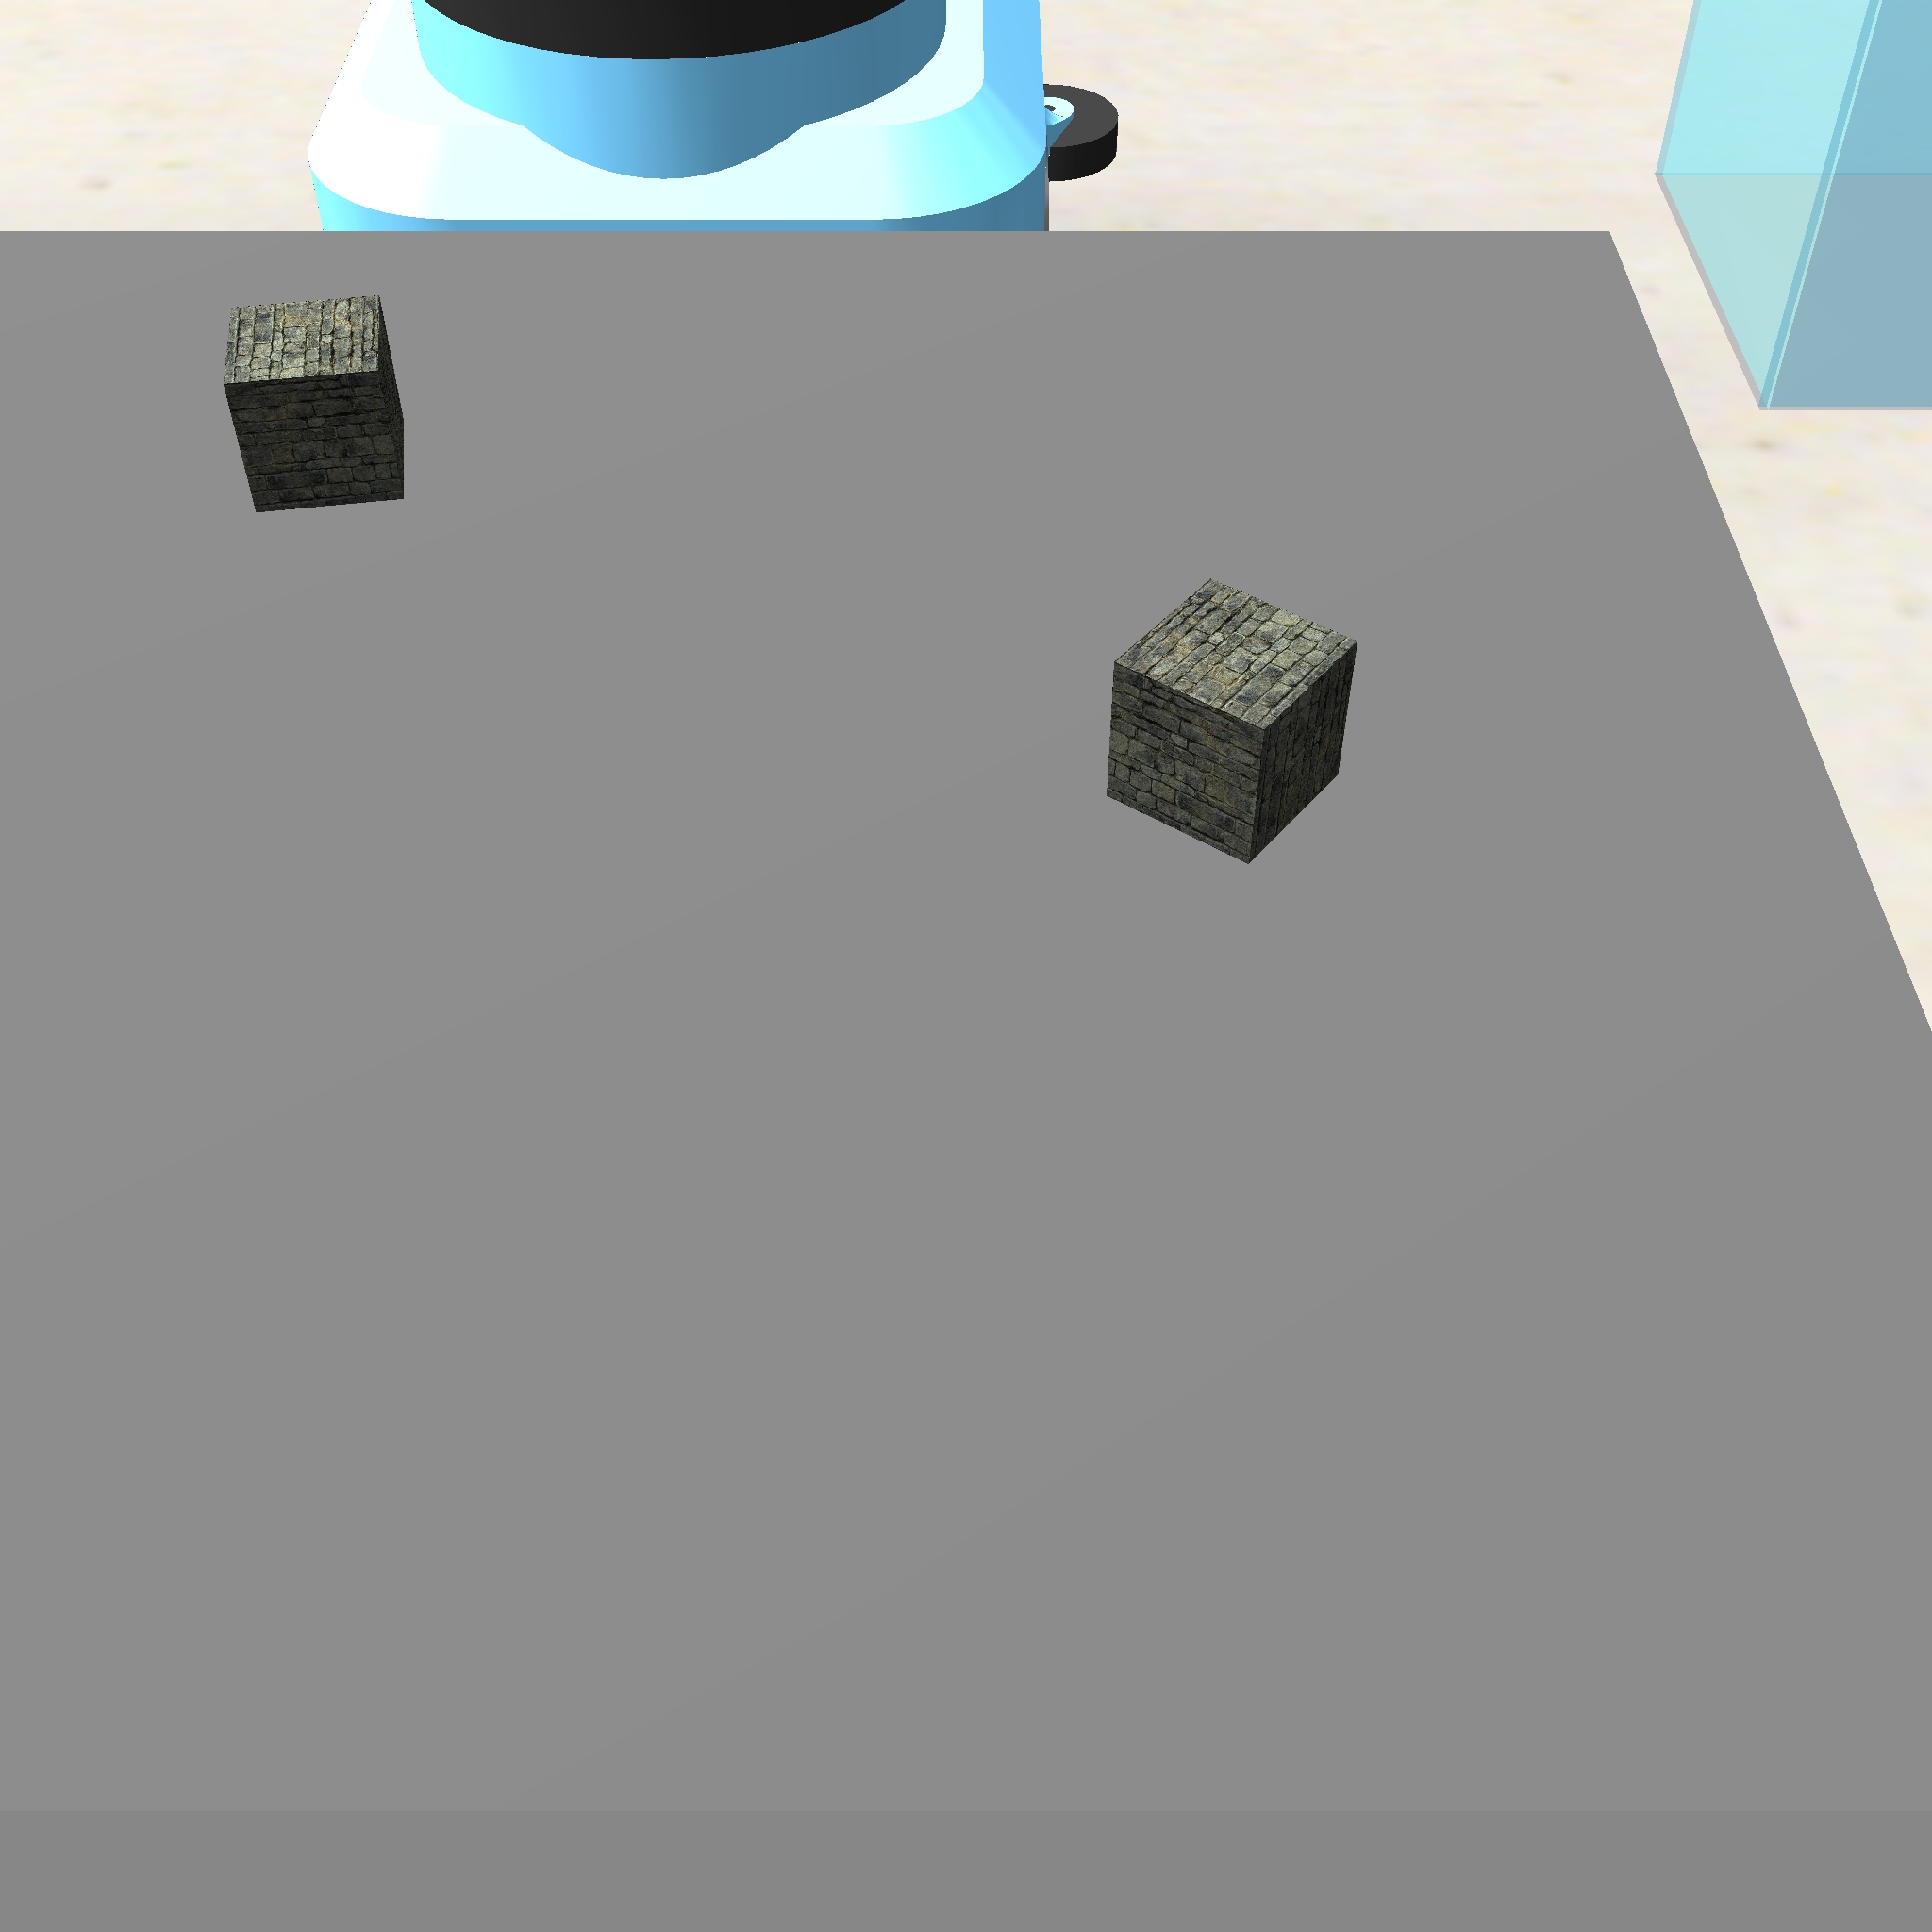cube: (1102, 570, 1366, 870), (216, 288, 419, 520)
